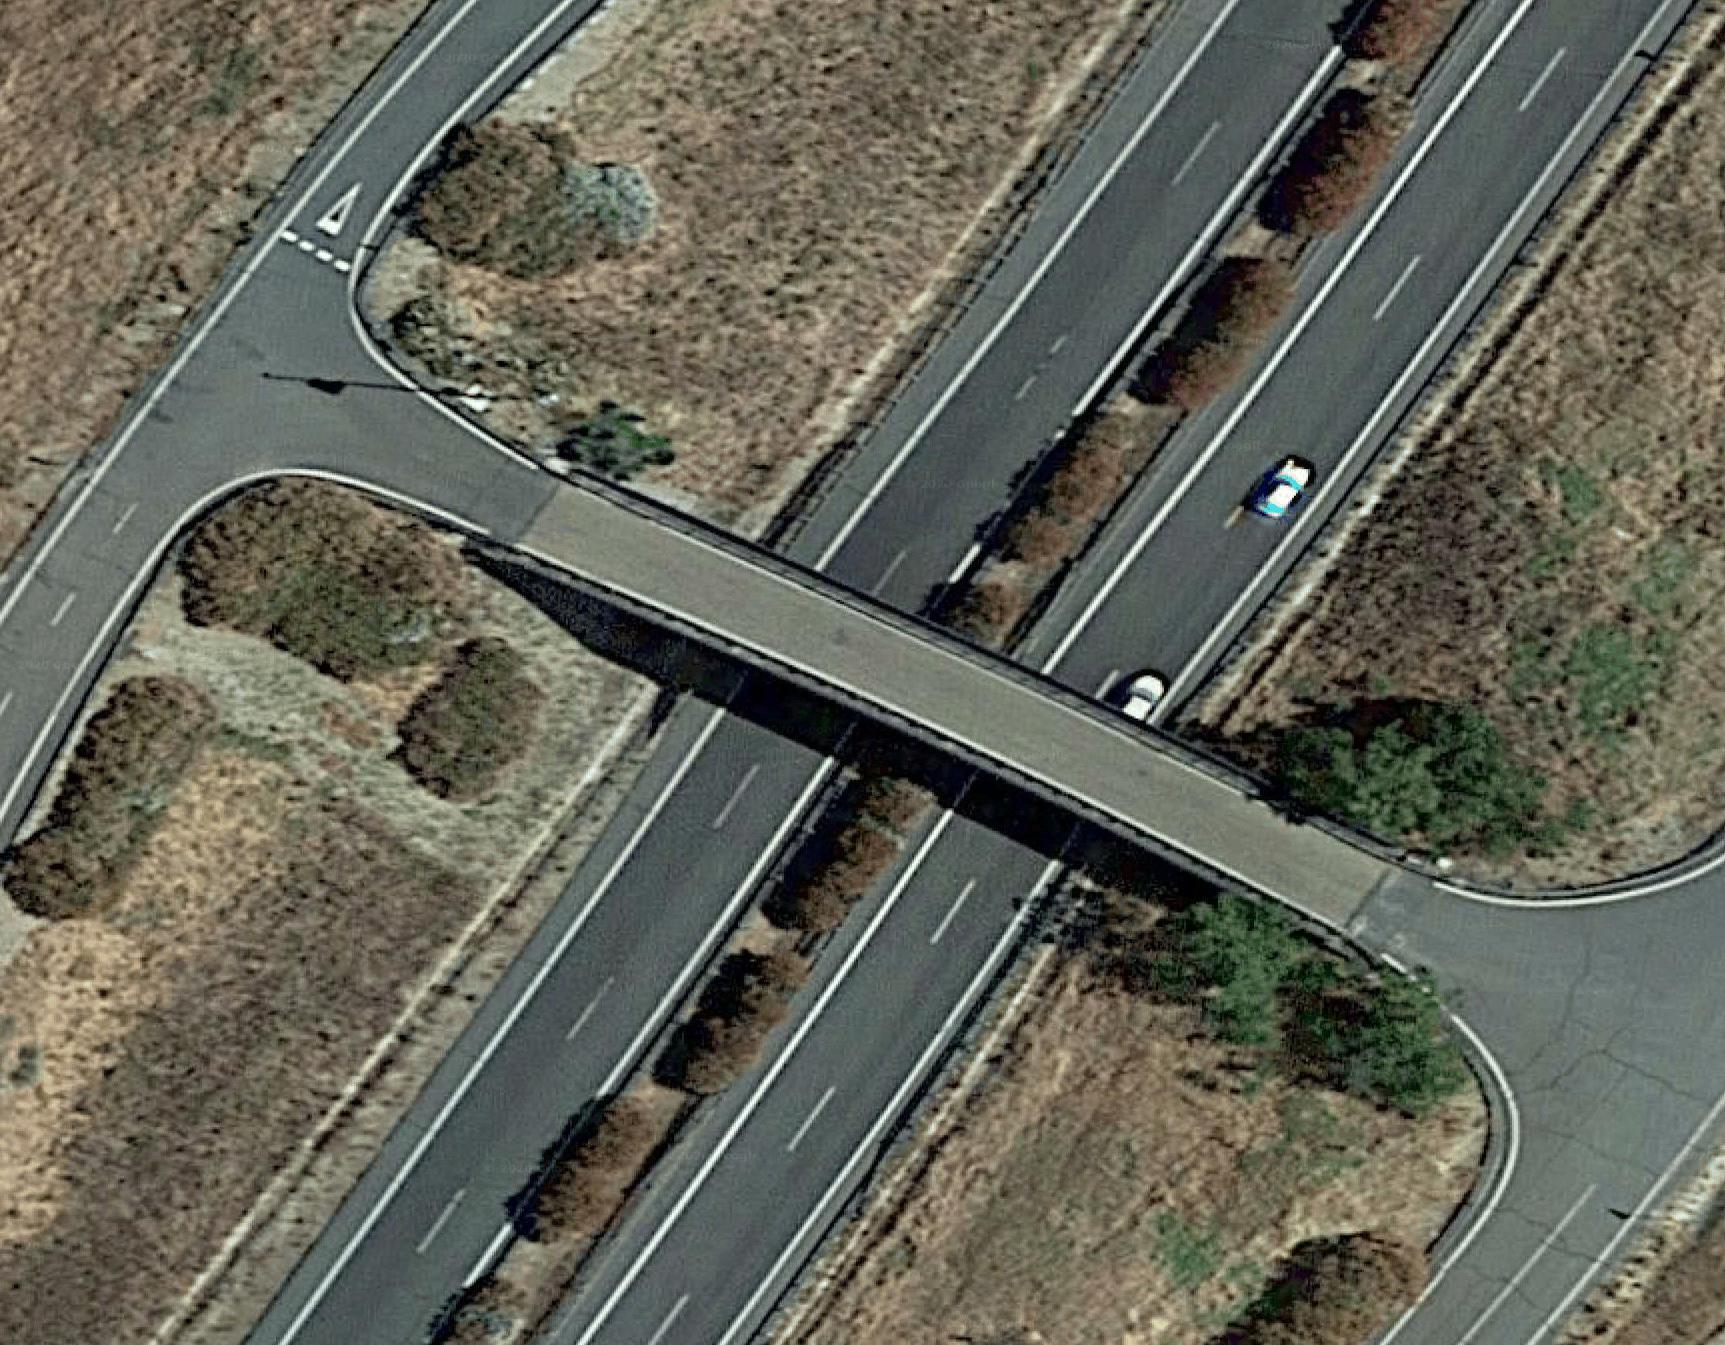bridge: (573, 437, 1257, 956)
small-vehicle: (1248, 453, 1316, 528), (1116, 669, 1172, 726)
